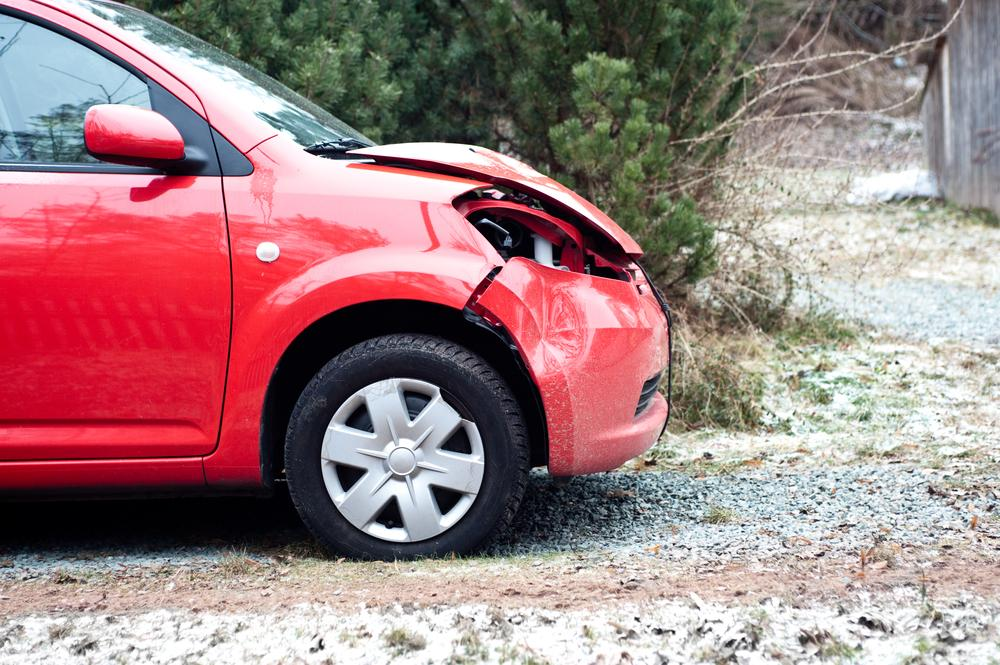dent: (517, 278, 587, 375)
tire flat: (284, 330, 525, 561)
